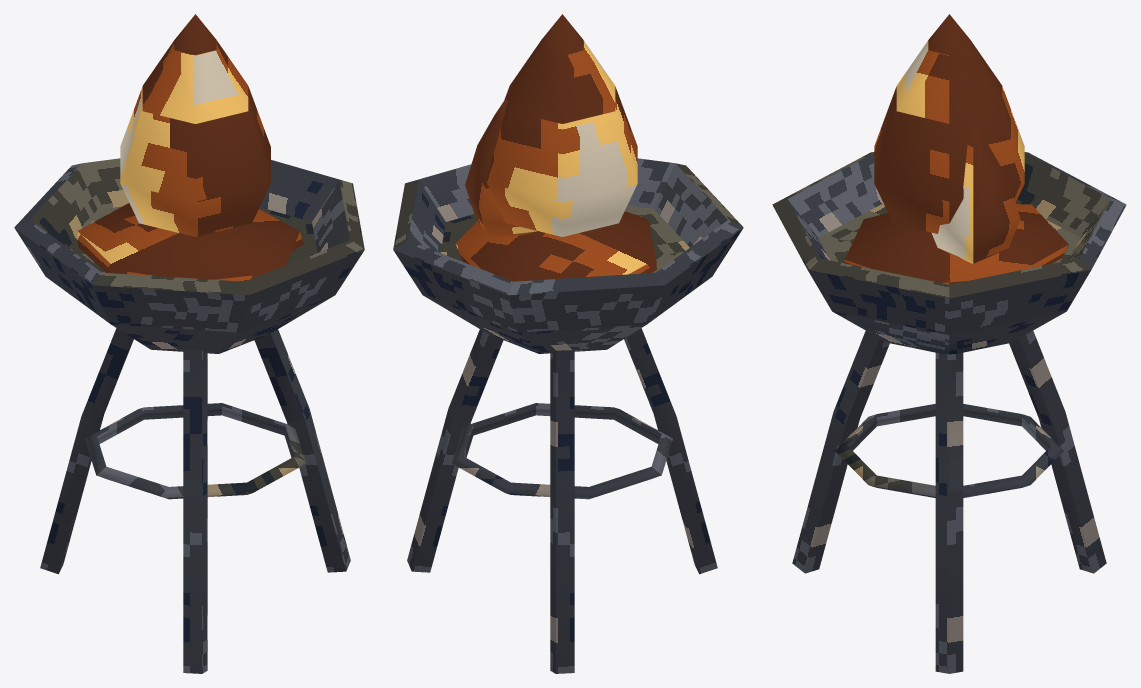
Rendered from dprop.brazier.glb.
3 views of the same model, side by side, from view 1: azimuth 30°, elevation 25°; view 2: azimuth 150°, elevation 25°; view 3: azimuth 270°, elevation 25° (orthographic).
Visible parts, largest first — view 1: kit_bowl, kit_legs, kit_flame, kit_coals; view 2: kit_bowl, kit_flame, kit_legs, kit_coals; view 3: kit_bowl, kit_legs, kit_flame, kit_coals.
Part boxes in pixels (left/top/right/bottom): kit_bowl: left=14, top=158, right=364, bottom=353; kit_legs: left=40, top=328, right=350, bottom=673; kit_flame: left=120, top=14, right=270, bottom=236; kit_coals: left=77, top=203, right=303, bottom=281; kit_bowl: left=393, top=158, right=743, bottom=353; kit_flame: left=465, top=14, right=637, bottom=238; kit_legs: left=407, top=328, right=717, bottom=673; kit_coals: left=455, top=211, right=656, bottom=281; kit_bowl: left=772, top=152, right=1126, bottom=354; kit_legs: left=792, top=331, right=1106, bottom=673; kit_flame: left=874, top=14, right=1024, bottom=263; kit_coals: left=844, top=204, right=1068, bottom=284.
Bounding box in the file's own units: 0.8744 × 1.65 × 0.8969.
2 materials, 2 textured.
